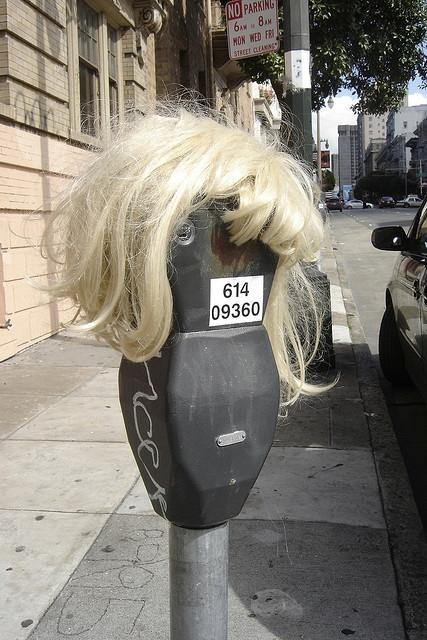car: (372, 195, 427, 459), (326, 196, 344, 214), (344, 200, 374, 210), (378, 196, 396, 209)
